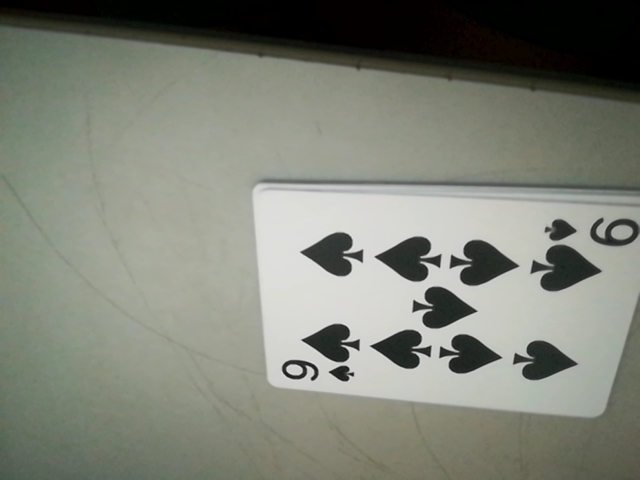ht 9: (271, 355, 362, 391)
